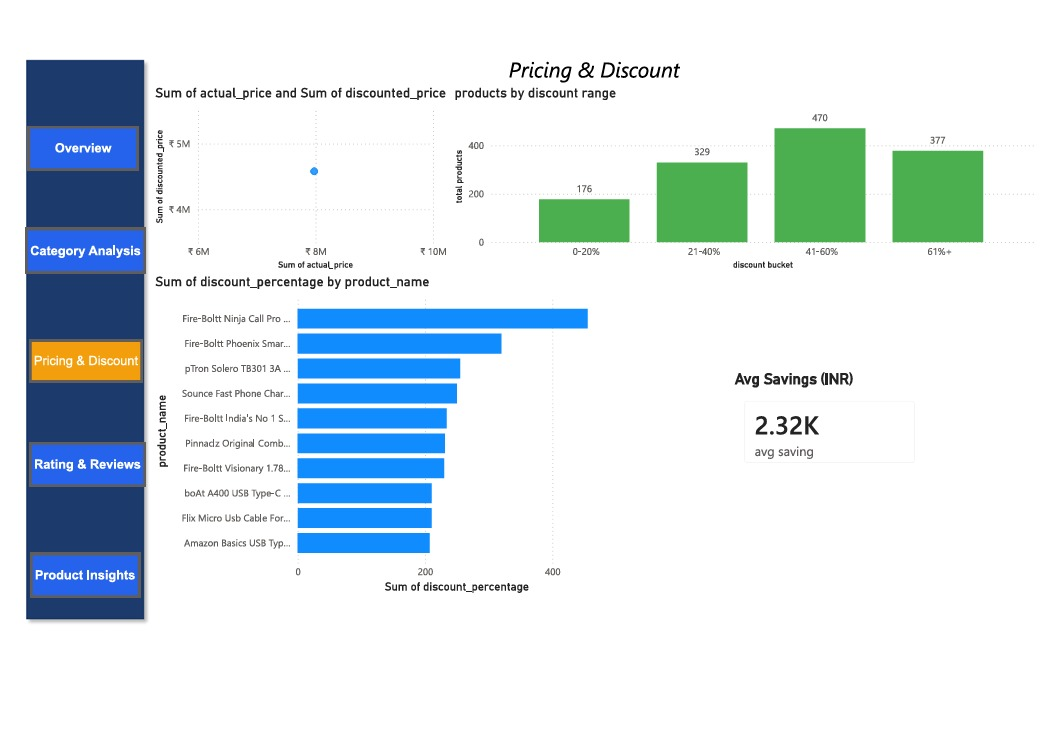

This screenshot's page, from the dashboard's own definition file:
{"tool":"powerbi","page":{"name":"Pricing &  Discount","canvas":[1280,720],"ordinal":2},"visuals":[{"type":"shape","box":[0,0,165.7,720],"z":0},{"type":"actionButton","box":[12.7,360,141.8,54.2],"z":1000},{"type":"actionButton","box":[8,219.8,151.3,57.3],"z":2000},{"type":"actionButton","box":[12.7,489,146.5,55.8],"z":3000},{"type":"actionButton","box":[11.2,92.4,138.6,55.8],"z":4000},{"type":"actionButton","box":[13.8,628.3,138.3,55.3],"z":5000},{"type":"shape","box":[165,0,1115,39.8],"z":6000},{"type":"scatterChart","fields":{"X":["Sum(amazon.actual_price)"],"Y":["Sum(amazon.discounted_price)"]},"box":[165.7,39.8,375.9,237.3],"z":7000},{"type":"clusteredBarChart","fields":{"Category":["amazon.product_name"],"Y":["Sum(amazon.discount_percentage)"]},"box":[165.7,277.2,598.9,406.2],"z":7001},{"type":"clusteredColumnChart","title":"products by discount range","fields":{"Category":["amazon.discount bucket"],"Y":["amazon.total products"]},"box":[542,40,738,237],"z":7002},{"type":"cardVisual","title":"Avg Savings (INR)","fields":{"Data":["amazon.avg saving"]},"box":[893.6,398.2,248.5,133.8],"z":7003}]}

Visuals, with their boxes on the page's 1280x720 design canvas (x1, y1, x2, y2). These are canvas units, not pixel positions in the 1045x733 screenshot, which may show the page scaled, cropped or inside an application window:
shape: 0,0,166,720
actionButton: 13,360,154,414
actionButton: 8,220,159,277
actionButton: 13,489,159,545
actionButton: 11,92,150,148
actionButton: 14,628,152,684
shape: 165,0,1280,40
scatterChart - Sum(amazon.actual_price) x Sum(amazon.discounted_price): 166,40,542,277
clusteredBarChart - amazon.product_name x Sum(amazon.discount_percentage): 166,277,765,683
"products by discount range" clusteredColumnChart: 542,40,1280,277
"Avg Savings (INR)" cardVisual: 894,398,1142,532
